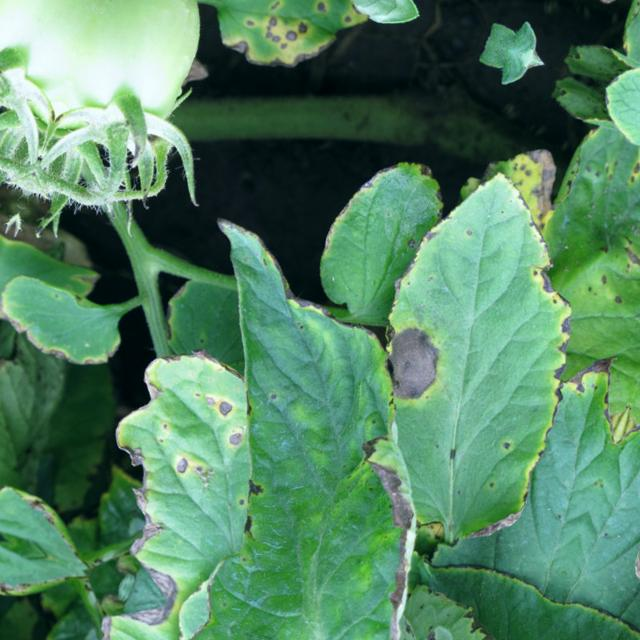Tomato Early blight leaf: (62, 220, 535, 640), (308, 165, 630, 564), (479, 87, 640, 390)
